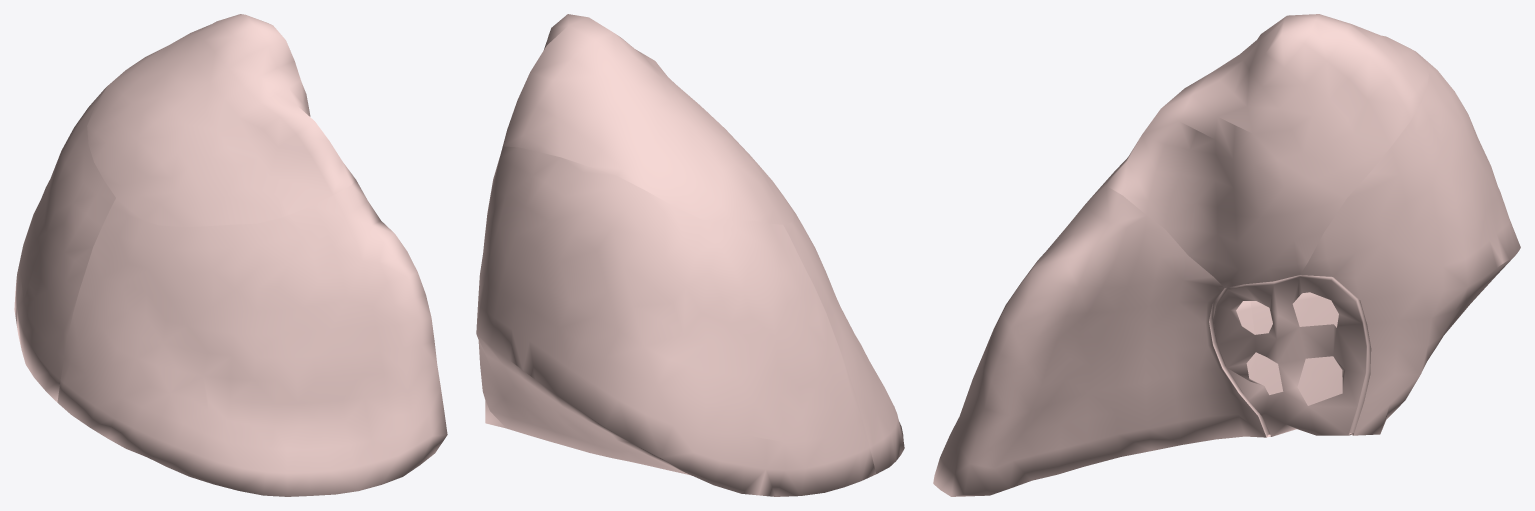
The model's file is lobo_superior_direito.glb.
3 views of the same model, side by side, from view 1: azimuth 30°, elevation 25°; view 2: azimuth 150°, elevation 25°; view 3: azimuth 270°, elevation 25° (orthographic). The views are drawn at different scales.
Visible parts, largest first — view 1: lobo_superior_direito; view 2: lobo_superior_direito; view 3: lobo_superior_direito.
Boxes of the visible parts, box(x1,y1,x2,y2) form: lobo_superior_direito: box(14, 14, 447, 496); lobo_superior_direito: box(476, 14, 904, 496); lobo_superior_direito: box(933, 14, 1520, 496).
Bounding box in the file's own units: 0.1124 × 0.1394 × 0.1587.
